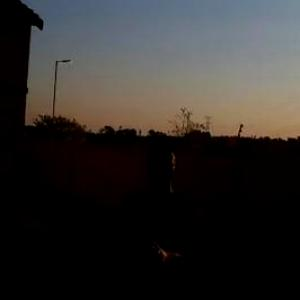follow: (109, 137, 203, 299)
